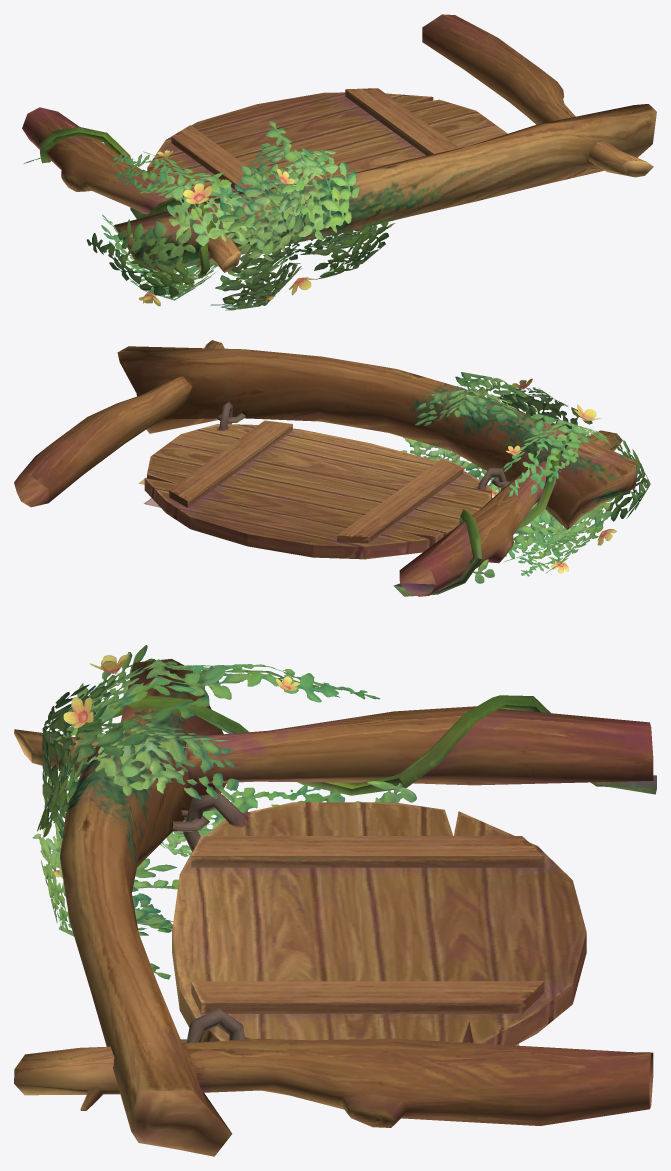
3 views of the same model, one above another, from view 1: azimuth 30°, elevation 25°; view 2: azimuth 150°, elevation 25°; view 3: azimuth 270°, elevation 25° (orthographic). The views are drawn at different scales.
Visible parts, largest first — view 1: M625; view 2: M625; view 3: M625.
Boxes of the visible parts, x1=… form: M625: x1=22, y1=14, x2=656, y2=310; M625: x1=14, y1=340, x2=650, y2=596; M625: x1=14, y1=645, x2=656, y2=1156.
Bounding box in the file's own units: 4.64 × 1.4 × 2.92.
